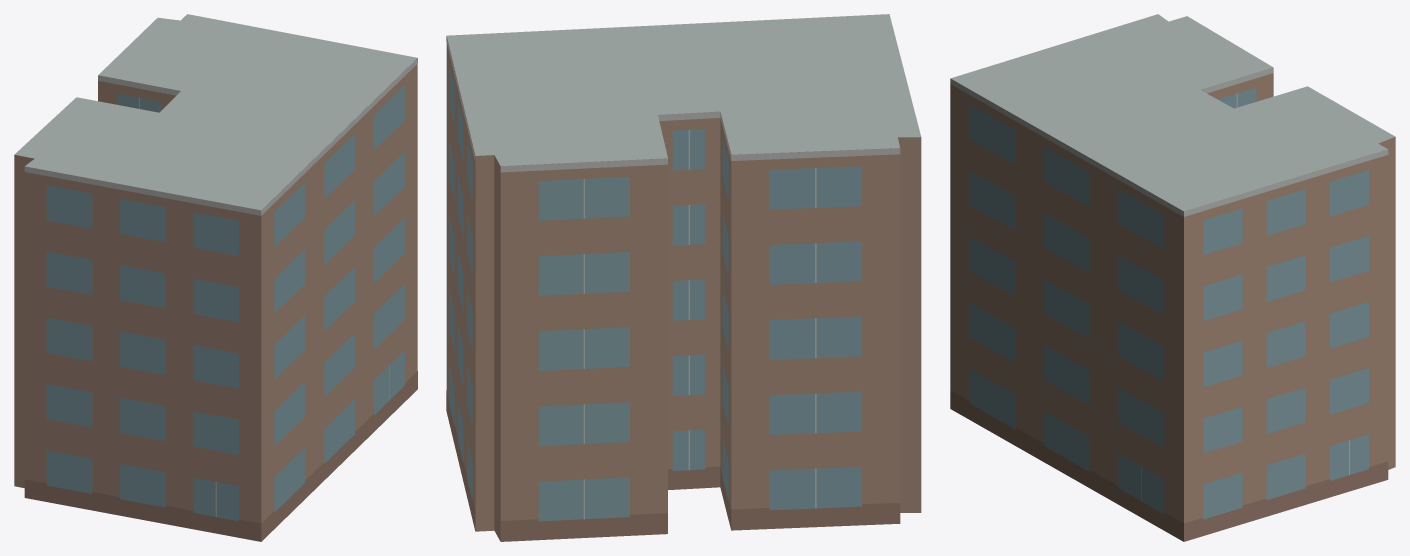
File: survey-upis-32931812.glb
3 renders of one model, left to right at view 1: azimuth 30°, elevation 25°; view 2: azimuth 150°, elevation 25°; view 3: azimuth 270°, elevation 25°, orthographic. The views are drawn at different scales.
Parts seen in each view (by area): view 1: survey-upis-32931812.tmp; view 2: survey-upis-32931812.tmp; view 3: survey-upis-32931812.tmp.
Boxes of the visible parts, box(x1,y1,x2,y2) form: survey-upis-32931812.tmp: box(14, 14, 417, 541); survey-upis-32931812.tmp: box(446, 14, 921, 541); survey-upis-32931812.tmp: box(950, 14, 1395, 541).
Bounding box in the file's own units: 18.59 × 14.5 × 17.72.
